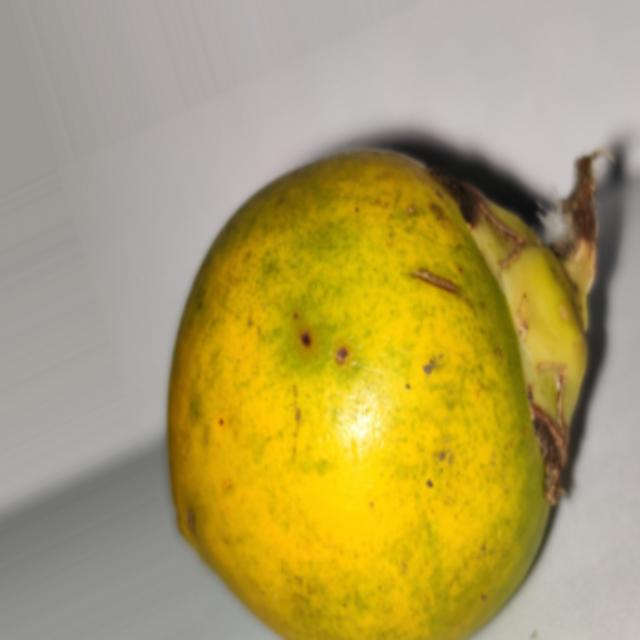good: (165, 148, 591, 638)
